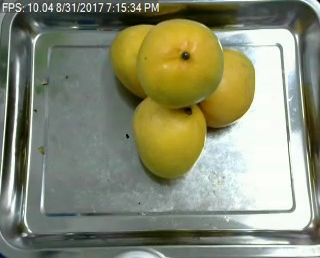Mango: (132, 16, 224, 110), (132, 96, 210, 180), (195, 47, 256, 126), (108, 21, 166, 97)
